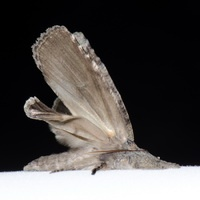insect: (24, 25, 178, 171)
